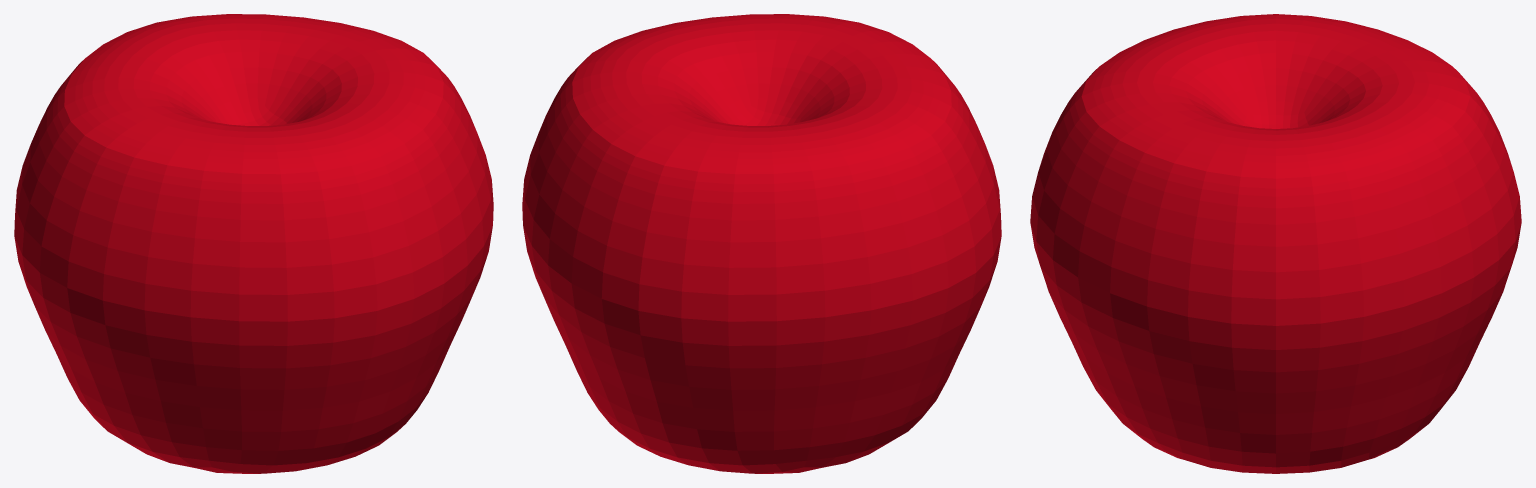
Rendered from apple.fbx.
The picture shows the model from 3 angles, left to right: view 1: azimuth 30°, elevation 25°; view 2: azimuth 150°, elevation 25°; view 3: azimuth 270°, elevation 25°; orthographic projection.
Parts seen in each view (by area): view 1: Cube; view 2: Cube; view 3: Cube.
Boxes of the visible parts, box(x1,y1,x2,y2) form: Cube: box(14, 14, 493, 473); Cube: box(522, 14, 1001, 473); Cube: box(1030, 14, 1521, 473).
Size of the model in its own units: 19.3 by 14.96 by 19.28.
